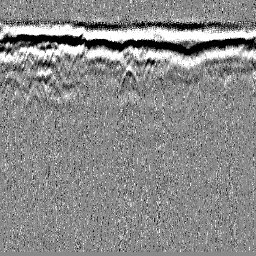cavity: (120, 63, 138, 90)
